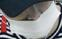mask_weared_incorrect: (1, 1, 62, 39)
